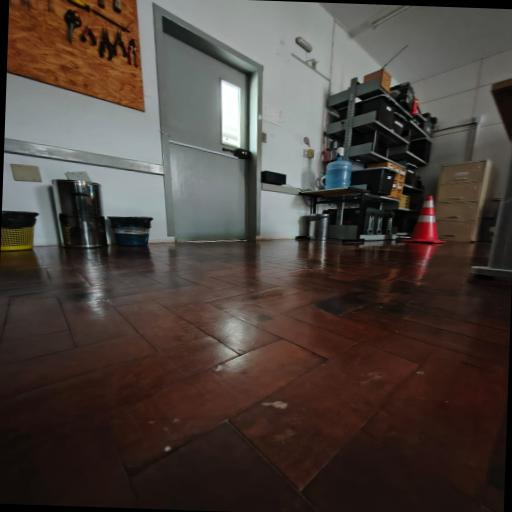cone: (409, 188, 444, 246)
